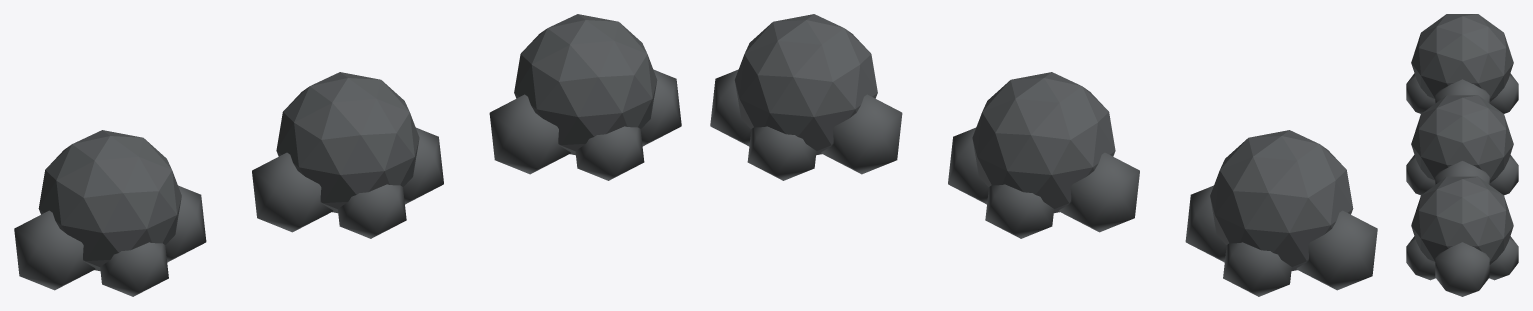
File: bushes_trimsheet.glb
3 renders of one model, left to right at view 1: azimuth 30°, elevation 25°; view 2: azimuth 150°, elevation 25°; view 3: azimuth 270°, elevation 25°, orthographic. The views are drawn at different scales.
Parts seen in each view (by area): view 1: Bush_02, Bush_03, Bush_01; view 2: Bush_02, Bush_03, Bush_01; view 3: Bush_01, Bush_03, Bush_02.
Part boxes in pixels (x1,y1,x2,y2): Bush_02: (252,72,443,238); Bush_03: (14,130,206,296); Bush_01: (489,14,681,180); Bush_02: (948,72,1139,238); Bush_03: (1185,130,1377,296); Bush_01: (710,14,902,180); Bush_01: (1406,176,1518,296); Bush_03: (1406,14,1518,113); Bush_02: (1406,95,1518,195).
Size of the model in its own units: 4.15 by 0.87 by 0.8743.
Materials: 1 (1 with a texture image).
